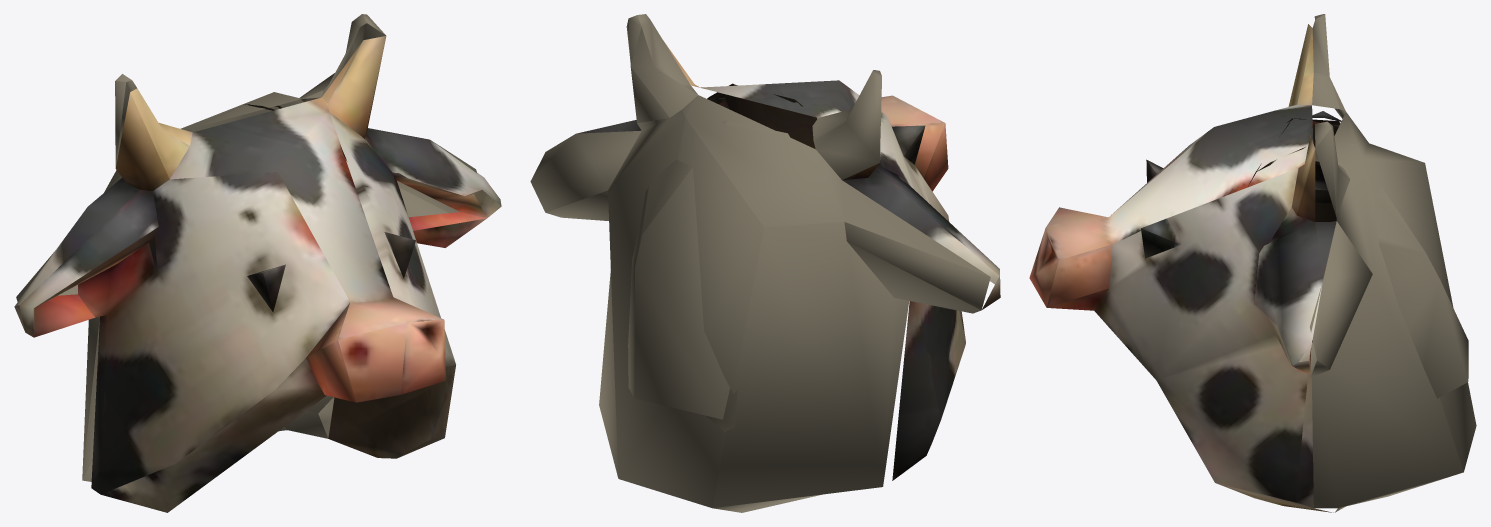
The model's file is cow.glb.
3 renders of one model, left to right at view 1: azimuth 30°, elevation 25°; view 2: azimuth 150°, elevation 25°; view 3: azimuth 270°, elevation 25°, orthographic. The views are drawn at different scales.
Visible parts, largest first — view 1: geometry_0; view 2: geometry_0; view 3: geometry_0.
Part boxes in pixels (x1=…): geometry_0: x1=14, y1=14, x2=501, y2=512; geometry_0: x1=530, y1=14, x2=1000, y2=512; geometry_0: x1=1029, y1=14, x2=1476, y2=512.
Bounding box in the file's own units: 0.5642 × 0.4873 × 0.4968.
2 materials, 1 textured.
